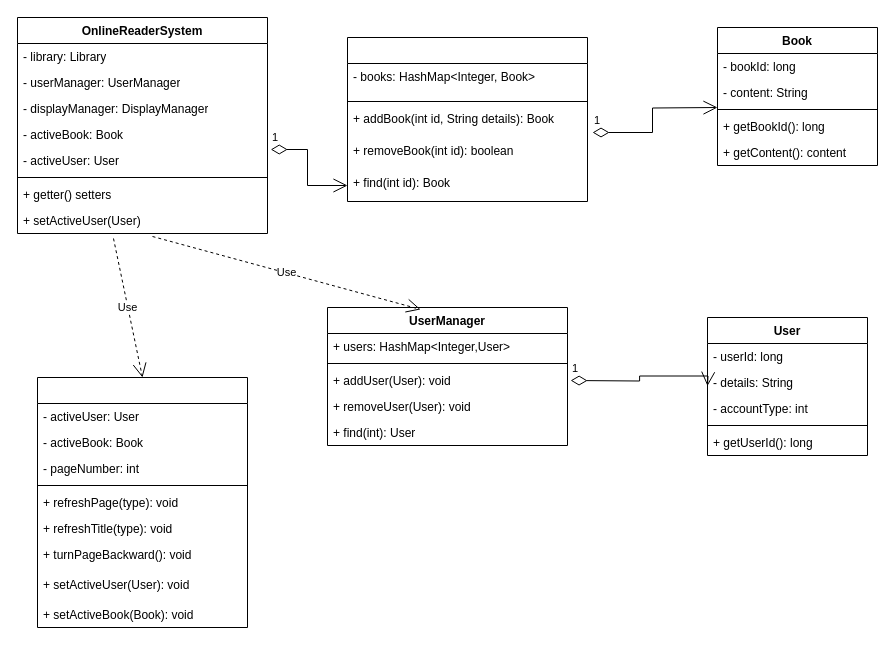
The diagram is 895 pixels wide and 648 high, and some of its shapes have lost their labels. The shapes that lost their labels are listed below. From the top down, each one's box as (x1, y1, x2, y2) in pixels, then its label:
(346, 36, 588, 202): Library
(36, 376, 248, 628): DisplayManager
